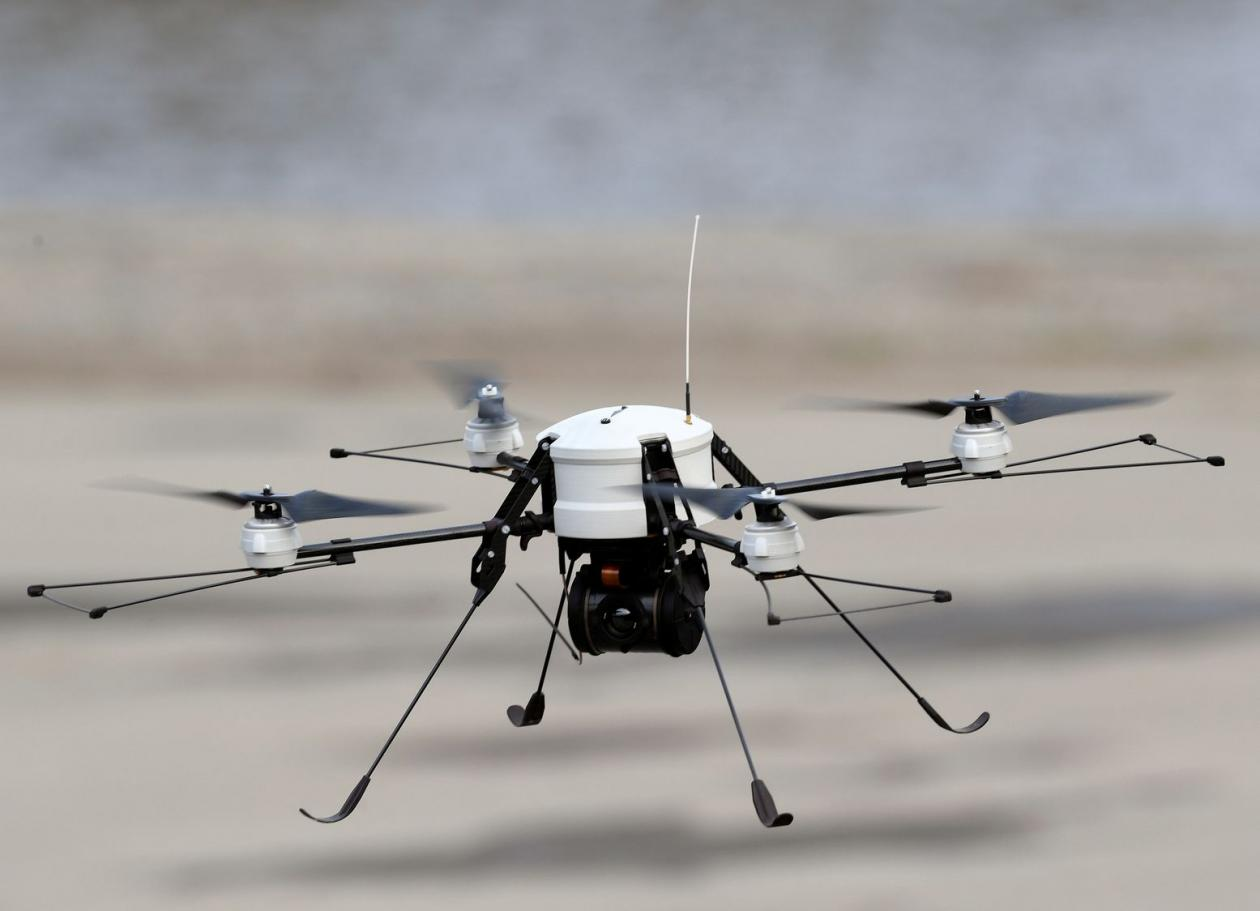drone: (19, 205, 1241, 847)
